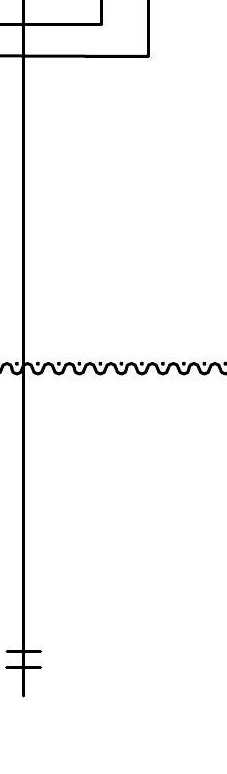115_buffer: (5, 650, 42, 669)
